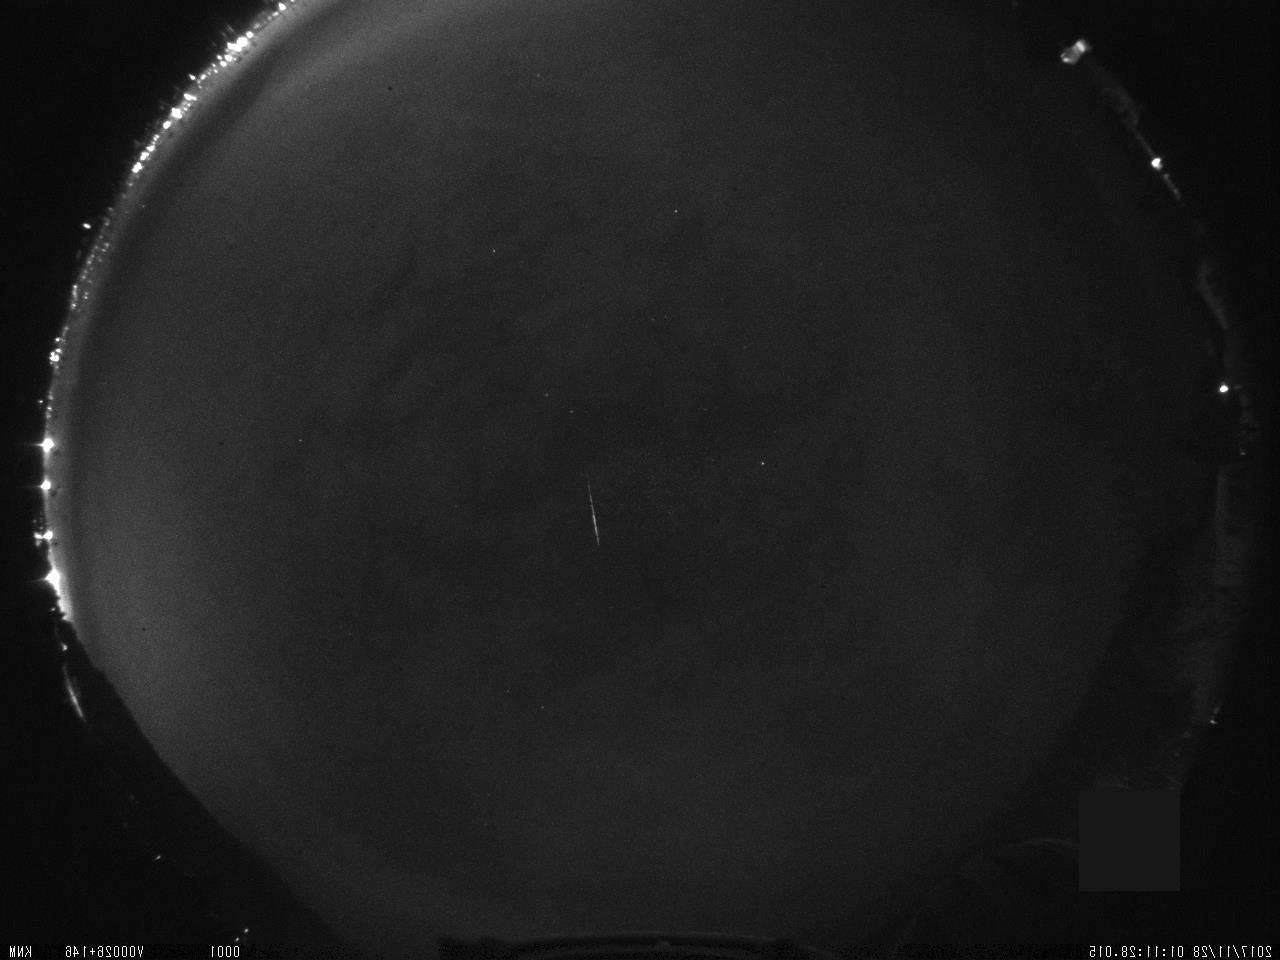meteor: (569, 474, 619, 547)
